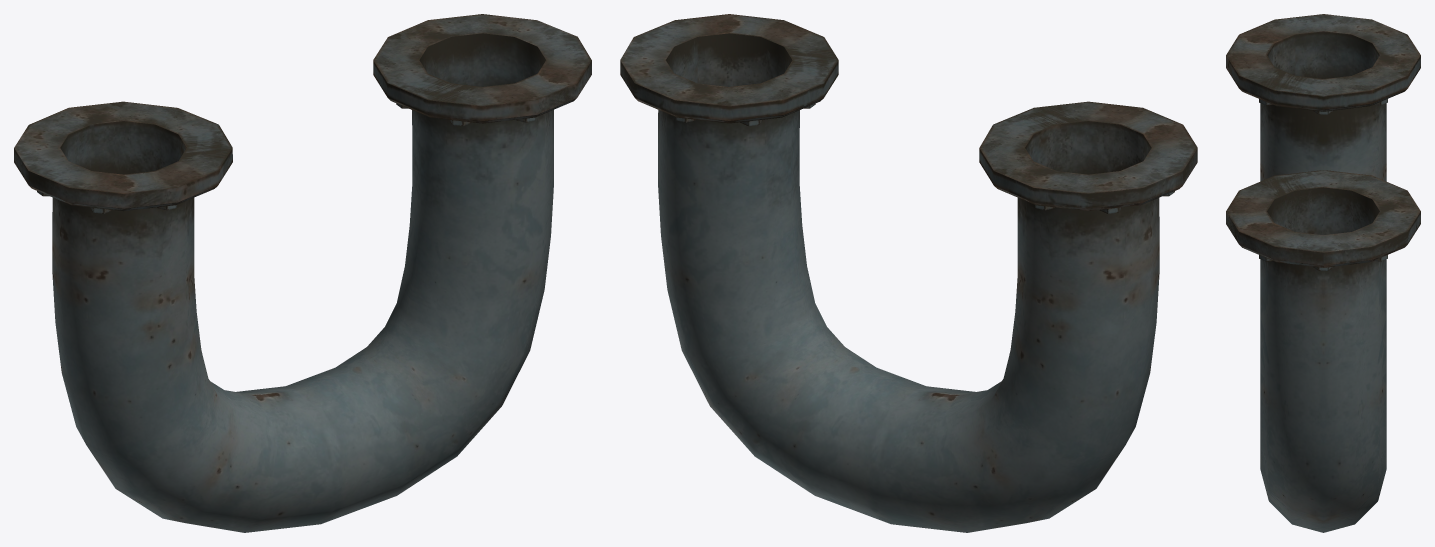
Rendered from pipe05.gltf.
3 renders of one model, left to right at view 1: azimuth 30°, elevation 25°; view 2: azimuth 150°, elevation 25°; view 3: azimuth 270°, elevation 25°, orthographic. The views are drawn at different scales.
Visible parts, largest first — view 1: modular_industrial_pipes_01_pipe05; view 2: modular_industrial_pipes_01_pipe05; view 3: modular_industrial_pipes_01_pipe05.
Boxes of the visible parts, left/top/right/bottom form: modular_industrial_pipes_01_pipe05: left=14, top=14, right=591, bottom=532; modular_industrial_pipes_01_pipe05: left=620, top=14, right=1197, bottom=532; modular_industrial_pipes_01_pipe05: left=1226, top=14, right=1420, bottom=532.
Bounding box in the file's own units: 0.5981 × 0.4329 × 0.2063.
Materials: 1 (1 with a texture image).
